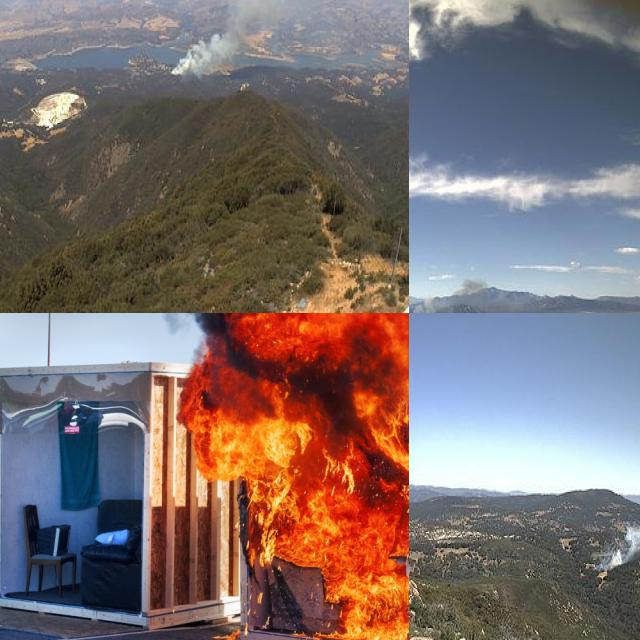fire: (180, 313, 409, 640)
smoke: (166, 0, 299, 77), (593, 495, 640, 577), (409, 276, 490, 313)
